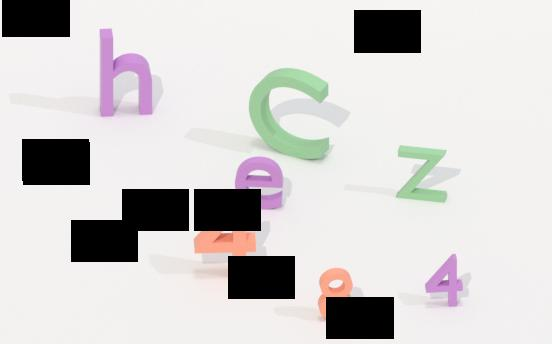4: (189, 191, 262, 280), (420, 251, 469, 309)
8: (314, 266, 359, 324)
c: (240, 66, 338, 162)
e: (234, 154, 289, 209)
h: (92, 29, 161, 119)
z: (393, 142, 453, 204)
